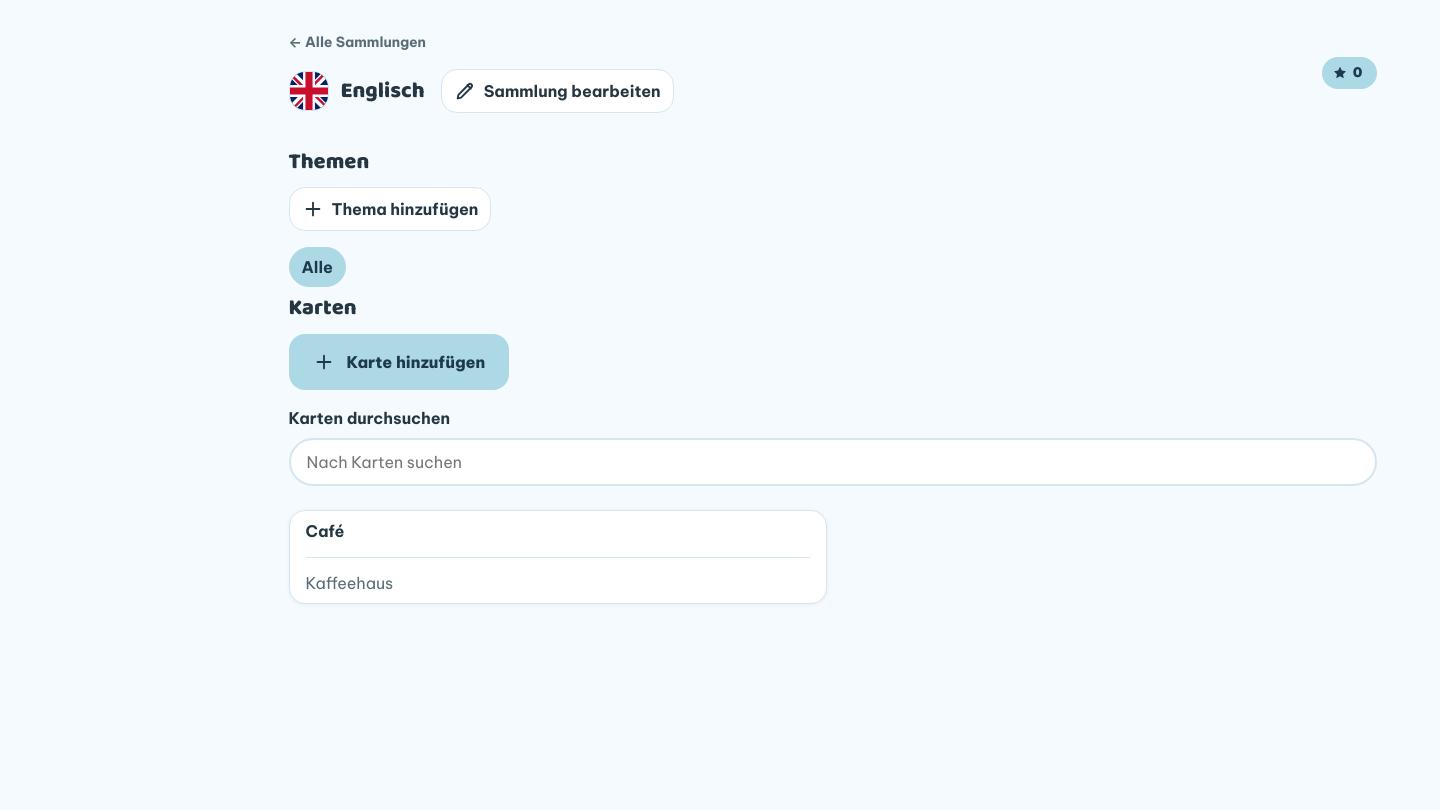
Scenario: rendered app journeys › keeps the Card dialog open when the file picker is cancelled
The width and height of the screenshot is (1440, 810).
Click the button "Karte hinzufügen" at (399, 362), box left=288, top=334, right=509, bottom=390
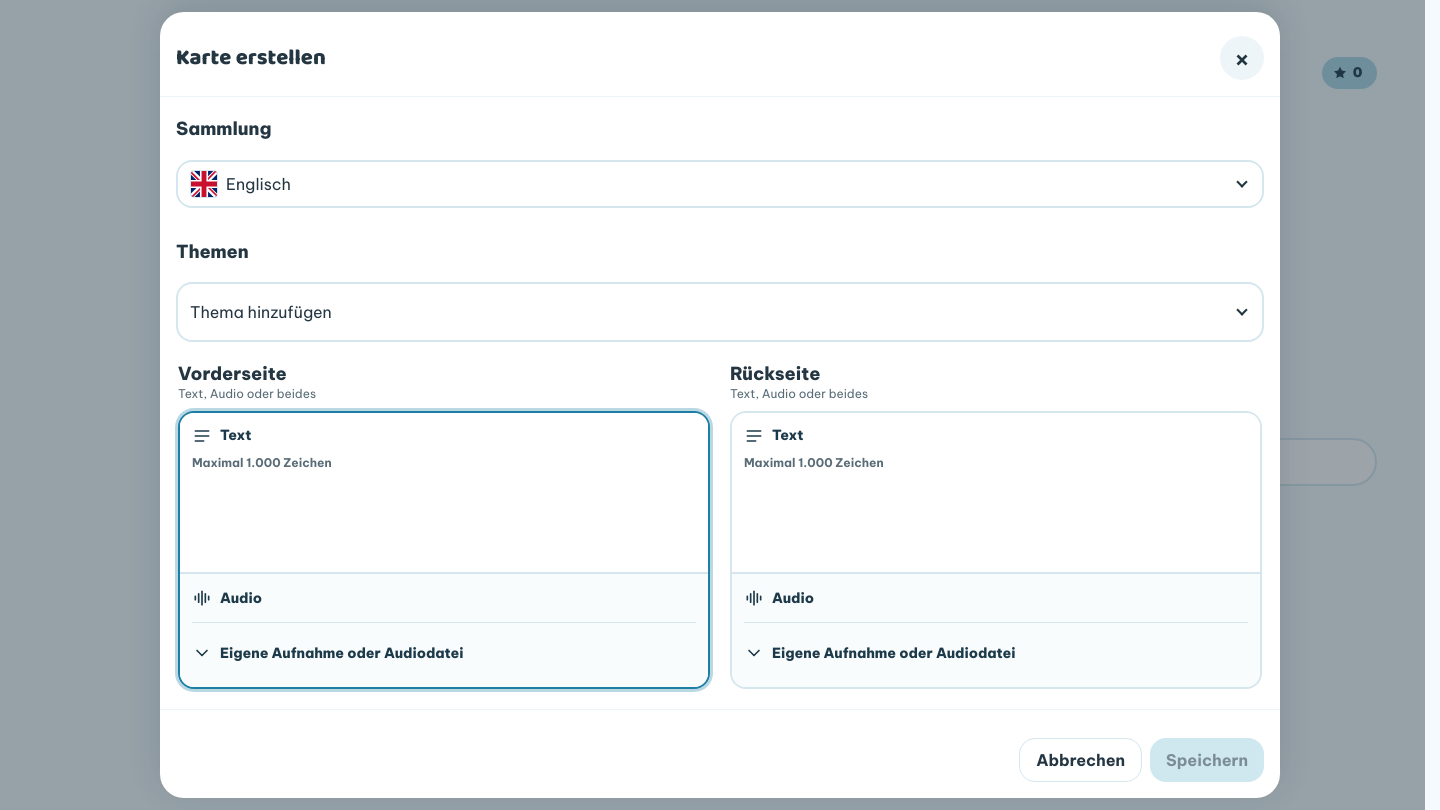
Now the element showing "Eigene Aufnahme oder Audiodatei" below "Vorderseite" is shown, box left=192, top=622, right=696, bottom=675
Now the dialog is shown
Now the heading "Karte erstellen" is shown, box left=176, top=42, right=326, bottom=74
